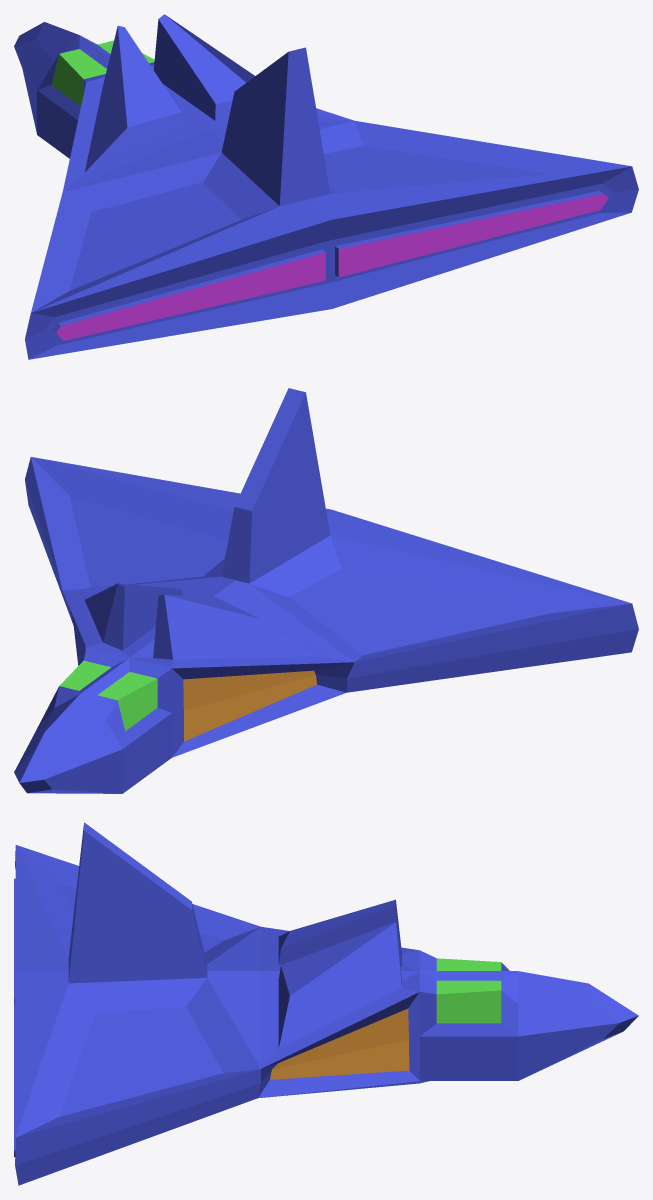
Rendered from ship 1.fbx.
3 views of the same model, one above another, from view 1: azimuth 30°, elevation 25°; view 2: azimuth 150°, elevation 25°; view 3: azimuth 270°, elevation 25° (orthographic).
Visible parts, largest first — view 1: Cube; view 2: Cube; view 3: Cube.
Part boxes in pixels (left/top/right/bottom): Cube: left=14, top=14, right=638, bottom=359; Cube: left=14, top=388, right=638, bottom=793; Cube: left=14, top=822, right=638, bottom=1185.
Bounding box in the file's own units: 1438 × 590 × 1269.
